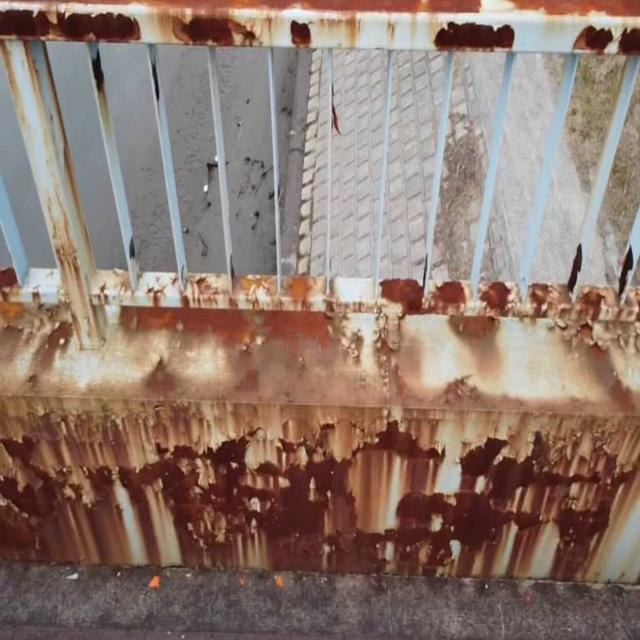corrosion: (15, 261, 640, 601), (15, 11, 640, 89)
